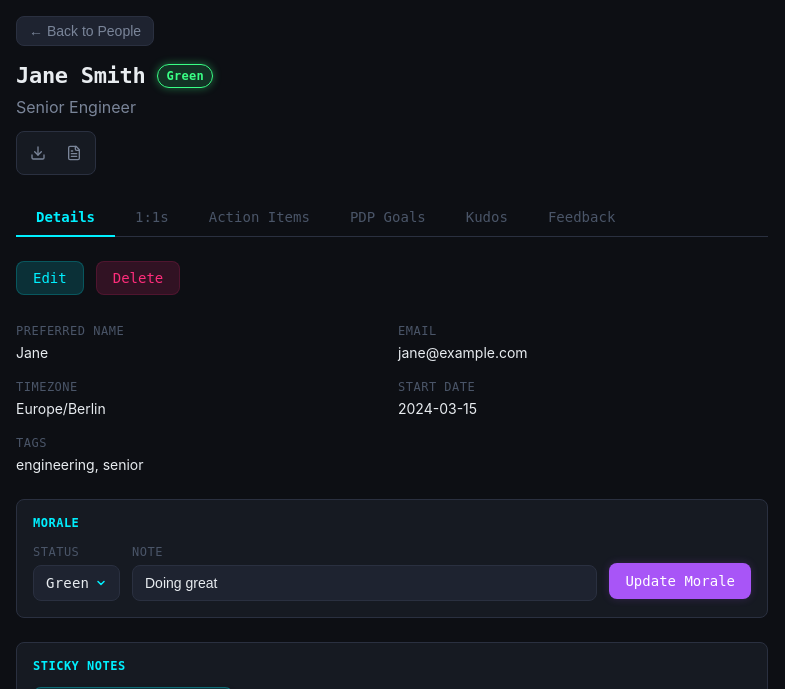
Scenario: PersonDetailPage › should show delete confirmation when Delete button is clicked
Click the button with test id "delete-button" at (138, 278), box left=96, top=261, right=180, bottom=295
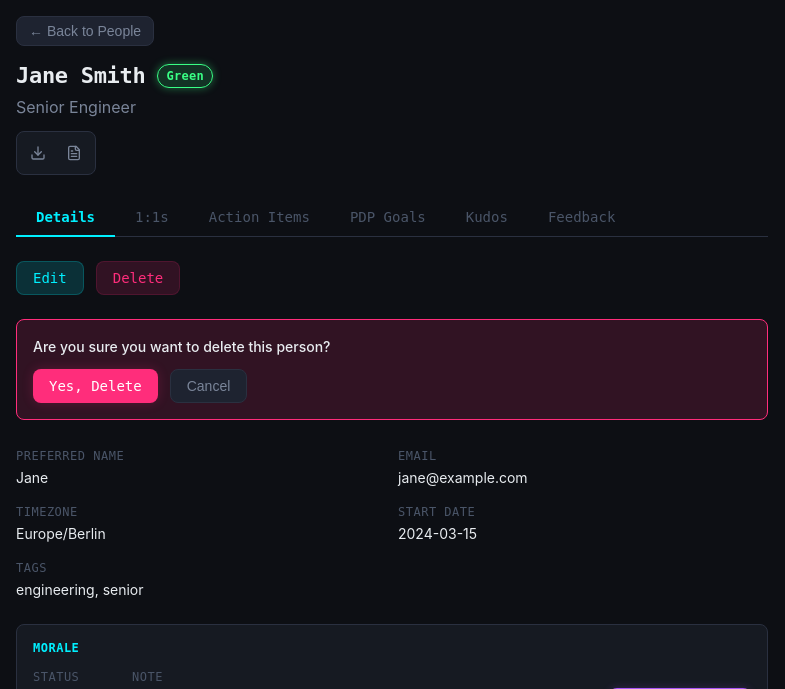
Expected: the element with test id "delete-confirmation" is shown, left=16, top=319, right=768, bottom=420
Expected: the text "Are you sure you want to delete this person?" is shown, left=33, top=338, right=330, bottom=355
